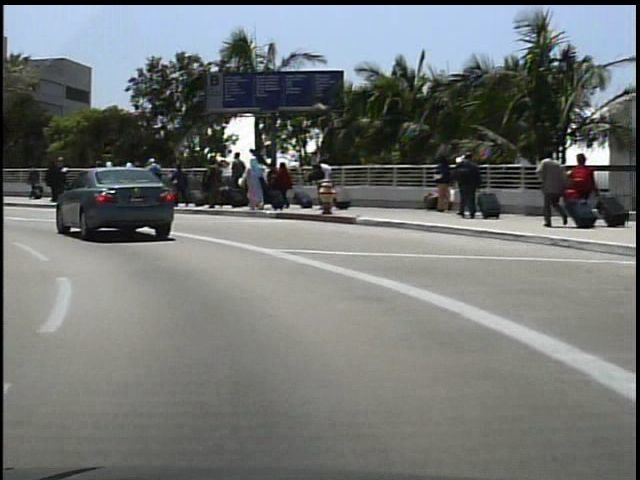person: (532, 148, 566, 227), (566, 149, 598, 226), (449, 150, 478, 219), (310, 153, 336, 205), (46, 153, 71, 206), (43, 154, 68, 201), (24, 160, 43, 201)
